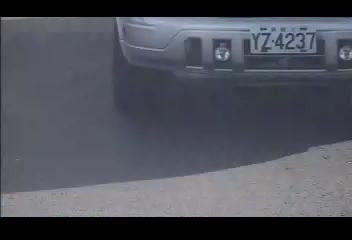plate: (248, 22, 319, 54)
